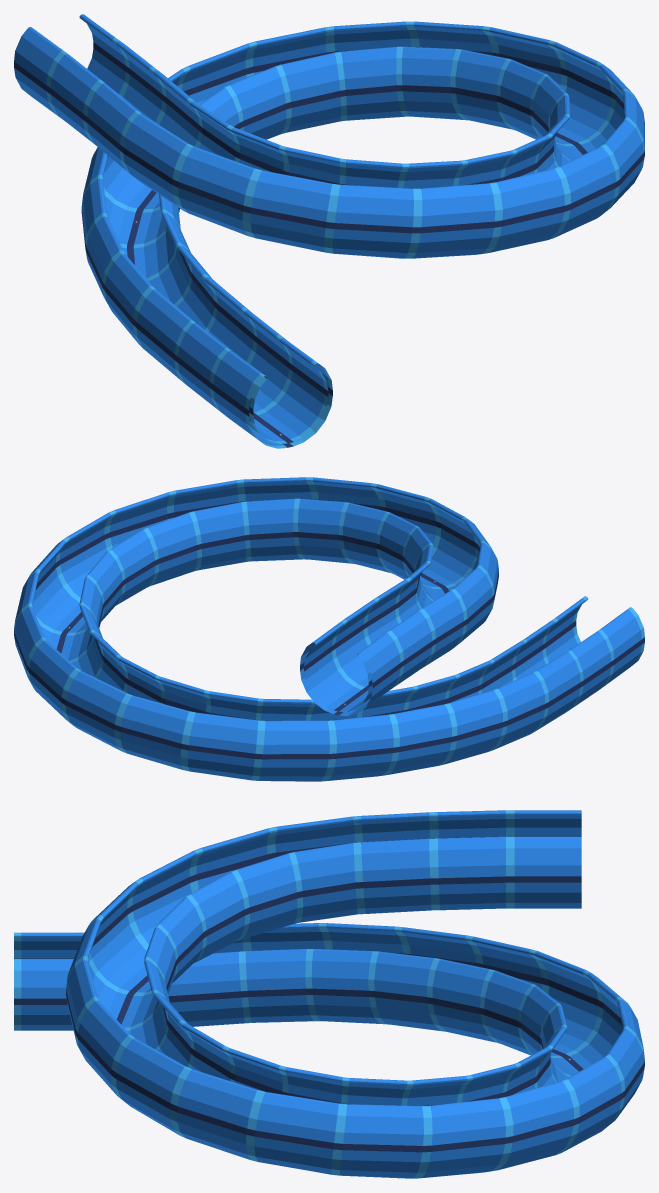
File: tunnel_180_S_L.fbx
3 views of the same model, one above another, from view 1: azimuth 30°, elevation 25°; view 2: azimuth 150°, elevation 25°; view 3: azimuth 270°, elevation 25° (orthographic). The views are drawn at different scales.
Visible parts, largest first — view 1: tunnel_180_S_L; view 2: tunnel_180_S_L; view 3: tunnel_180_S_L.
Boxes of the visible parts, left/top/right/bottom form: tunnel_180_S_L: left=14, top=14, right=644, bottom=448; tunnel_180_S_L: left=14, top=477, right=644, bottom=781; tunnel_180_S_L: left=14, top=810, right=644, bottom=1178.
Size of the model in its own units: 11379 by 4444 by 11436.
Materials: 2 (1 with a texture image).
